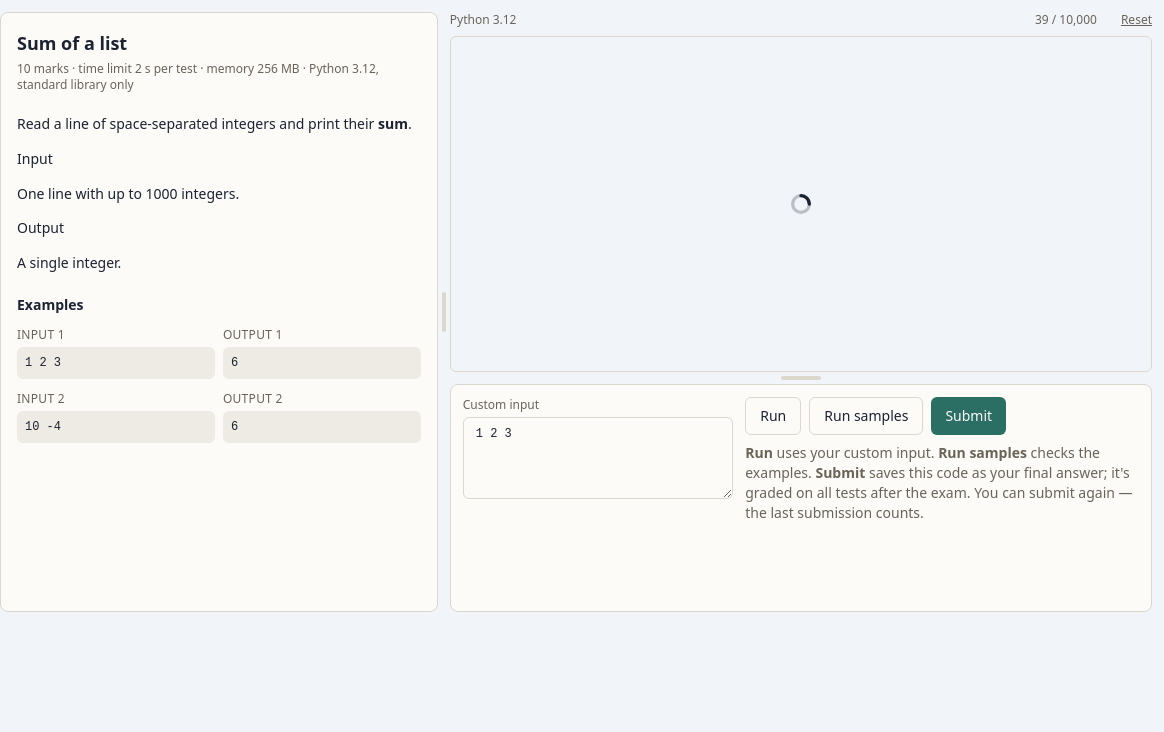
CodingQuestionView › without a local runner › shows the server message on 429
Click the button "Run" at (773, 416), box [745,397,801,435]
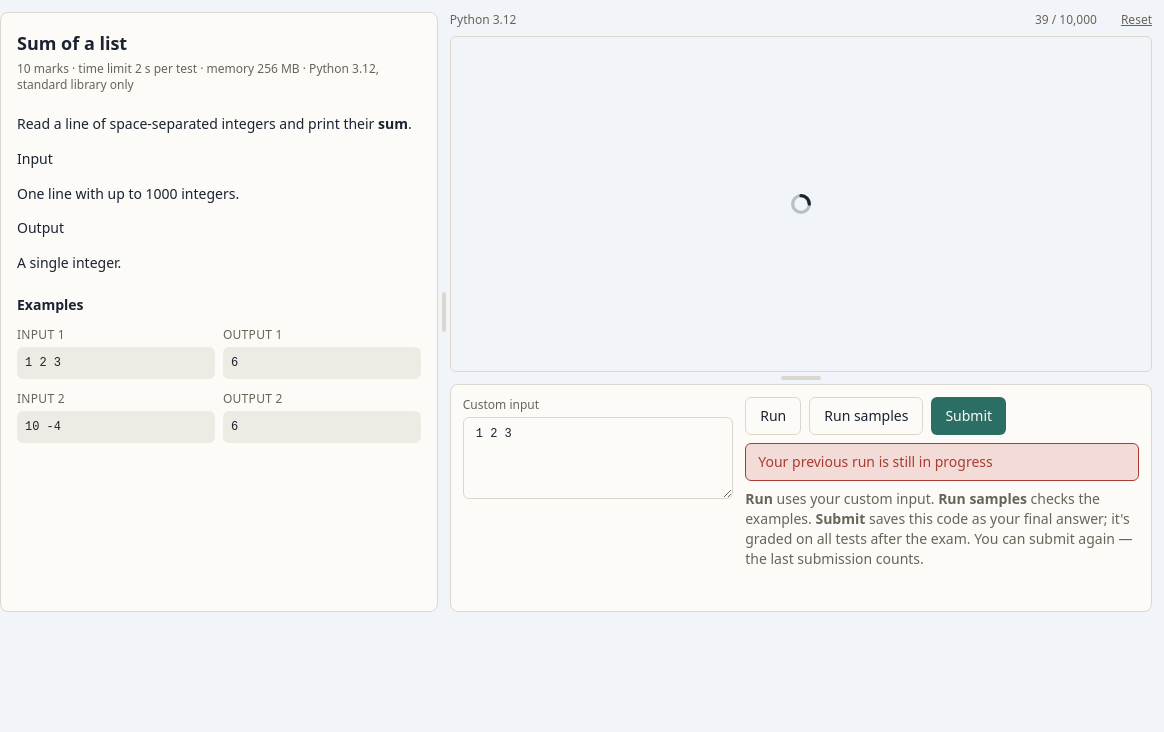
Check: the text "Your previous run is still in progress" is shown, box [745,443,1139,481]
